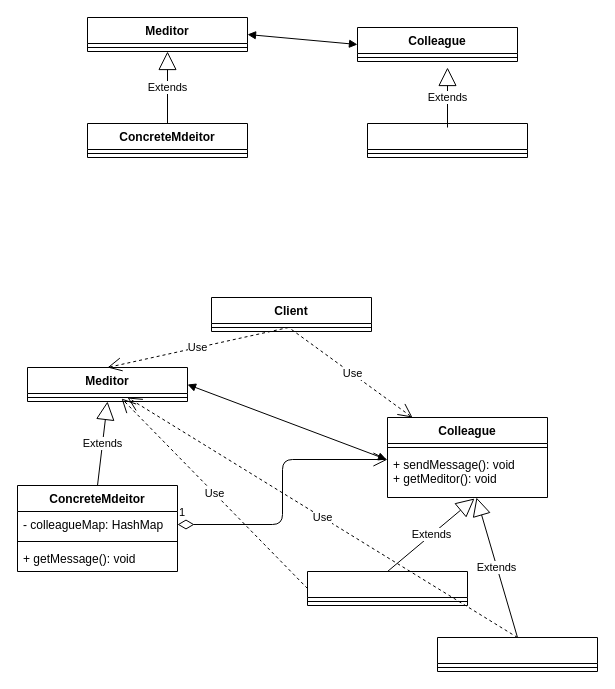
Image size: 615x689. Some labels were removed from this diagram. Each missing label, with the centre of its shape:
Alarm: (387,588)
ConcreteColleague: (447,140)
TV: (517,654)
